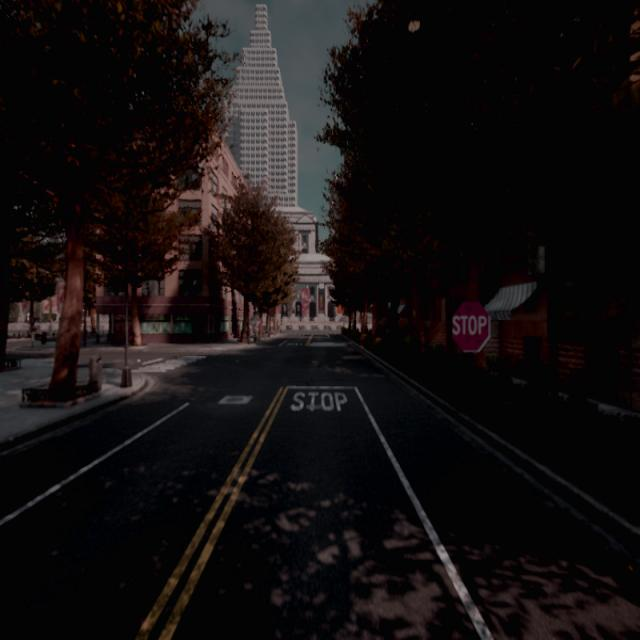stop sign: (449, 298, 492, 355)
